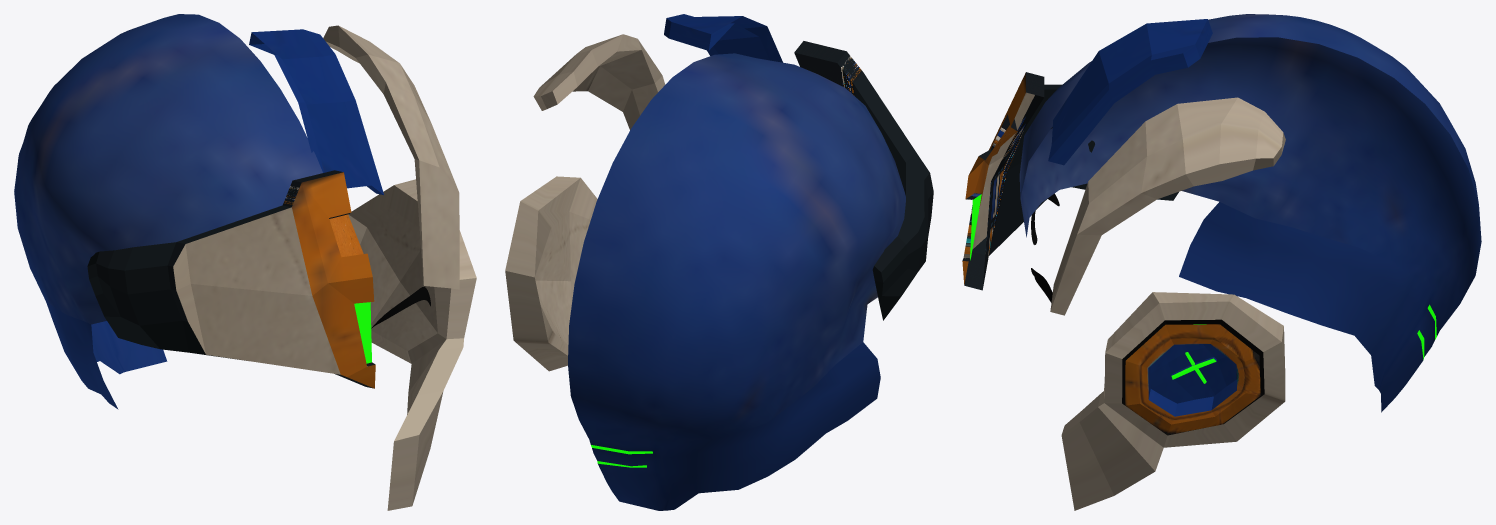
Rendered from helmet1.glb.
3 views of the same model, side by side, from view 1: azimuth 30°, elevation 25°; view 2: azimuth 150°, elevation 25°; view 3: azimuth 270°, elevation 25° (orthographic). The views are drawn at different scales.
Visible parts, largest first — view 1: Sphere.005, Plane.008, Plane.009, Plane.007, Cube.020, Plane.006; view 2: Sphere.005, Plane.009, Plane.008, Plane.007, Cube.020; view 3: Sphere.005, Plane.009, Plane.007, Cube.020, Plane.008.
Boxes of the visible parts, x1,y1,x2,y2 form: Sphere.005: [14, 14, 322, 409]; Plane.008: [87, 170, 375, 388]; Plane.009: [348, 179, 476, 510]; Plane.007: [323, 25, 459, 289]; Cube.020: [249, 29, 383, 194]; Plane.006: [371, 286, 430, 328]; Sphere.005: [568, 53, 905, 510]; Plane.009: [505, 176, 597, 371]; Plane.008: [794, 41, 933, 320]; Plane.007: [533, 34, 665, 129]; Cube.020: [664, 14, 782, 62]; Sphere.005: [1019, 14, 1481, 412]; Plane.009: [1061, 292, 1285, 510]; Plane.007: [1050, 97, 1285, 315]; Cube.020: [1048, 19, 1212, 165]; Plane.008: [962, 72, 1178, 290].
Size of the model in its own units: 1.16 by 1.39 by 1.46.
4 materials, 1 textured.
